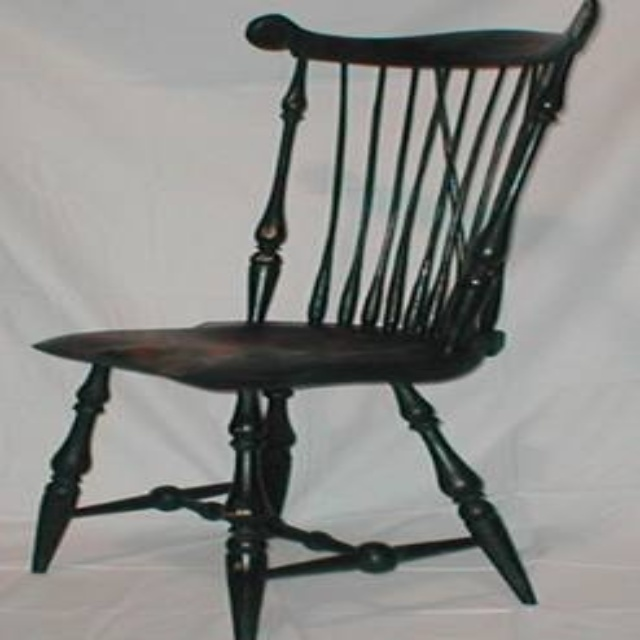obstacle: (31, 0, 596, 638)
